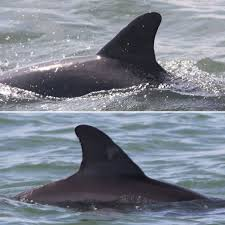fin: (9, 119, 214, 218), (4, 3, 203, 103)
